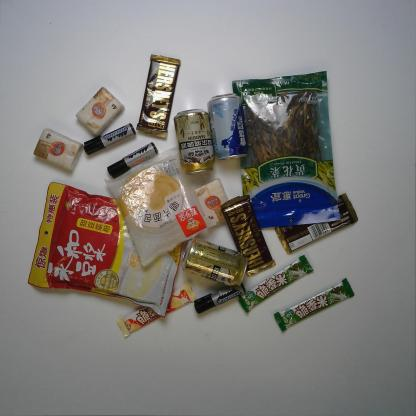Alcohol: (187, 233, 259, 288), (206, 88, 257, 164), (174, 106, 219, 180)
Chocolate: (270, 193, 384, 258), (273, 276, 375, 335), (218, 193, 282, 276), (112, 281, 202, 339), (236, 256, 314, 315), (137, 52, 184, 145)
Dessert: (106, 146, 218, 268)
Dried Food: (230, 71, 363, 234)
Instant Drink: (20, 180, 192, 321)
Stationery: (99, 144, 166, 178), (82, 119, 142, 154), (195, 281, 251, 314)
Tissue: (23, 125, 92, 171), (76, 84, 127, 142), (193, 175, 236, 229)
